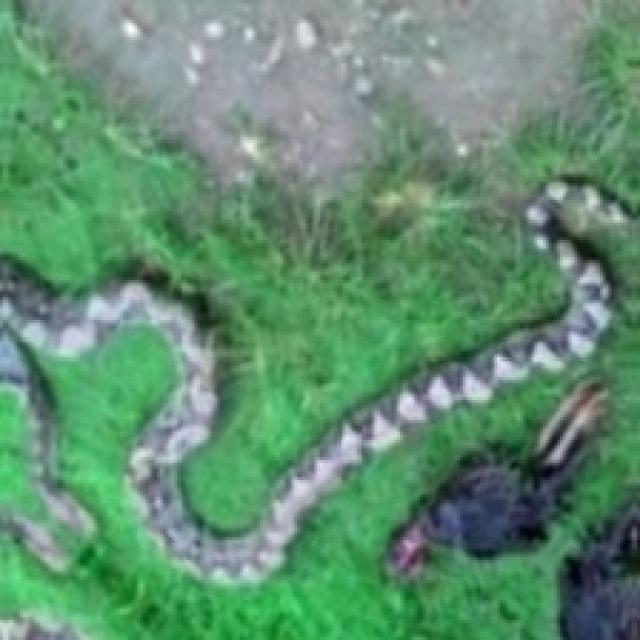reticulated python: (0, 180, 626, 580), (0, 329, 89, 563)
